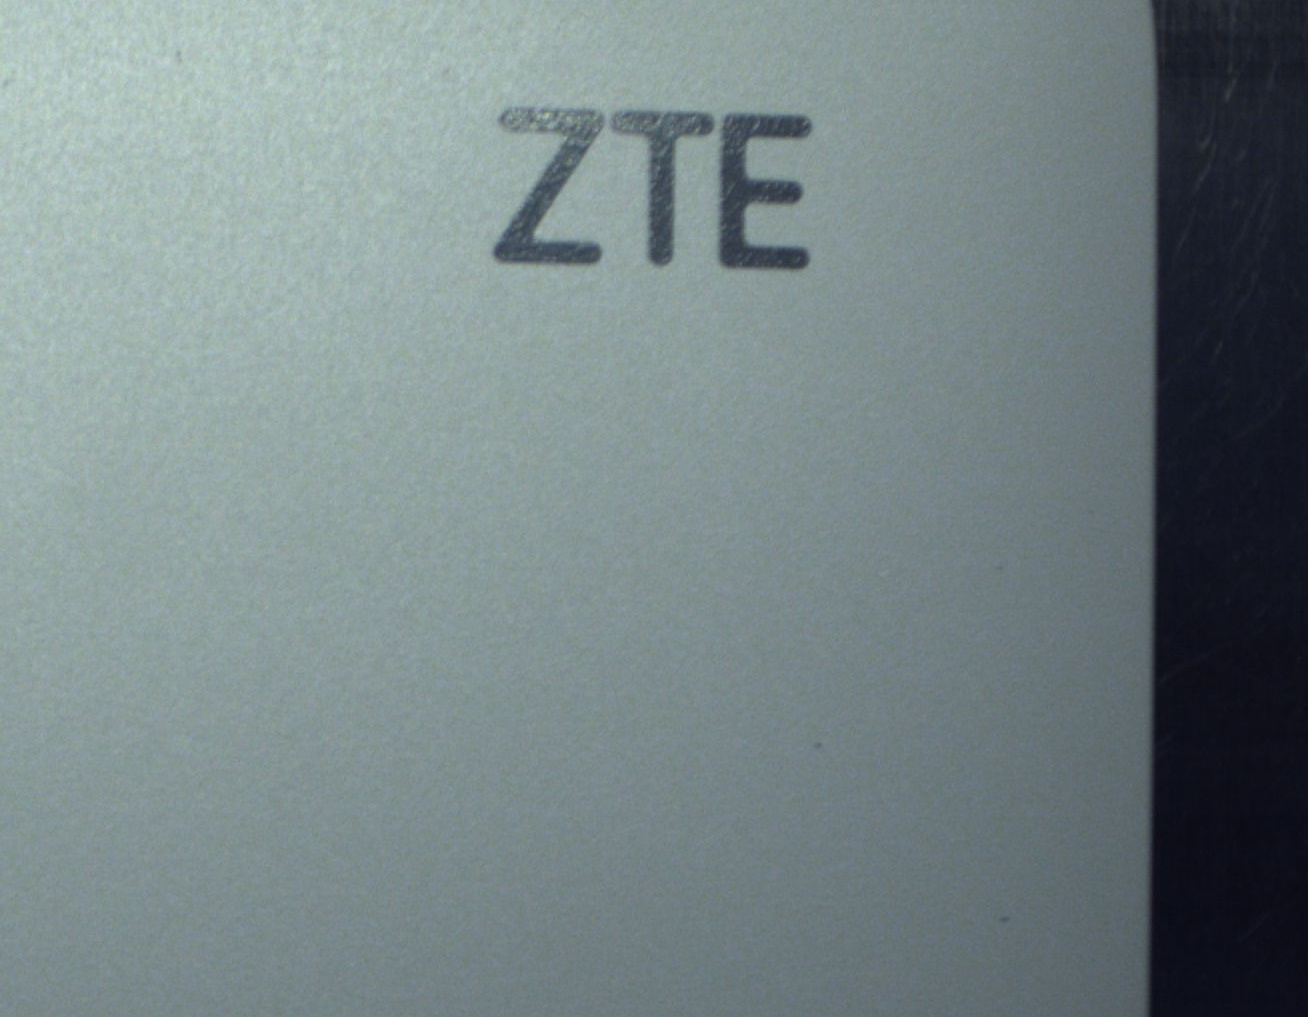AN_ZTE: (459, 89, 864, 292)
